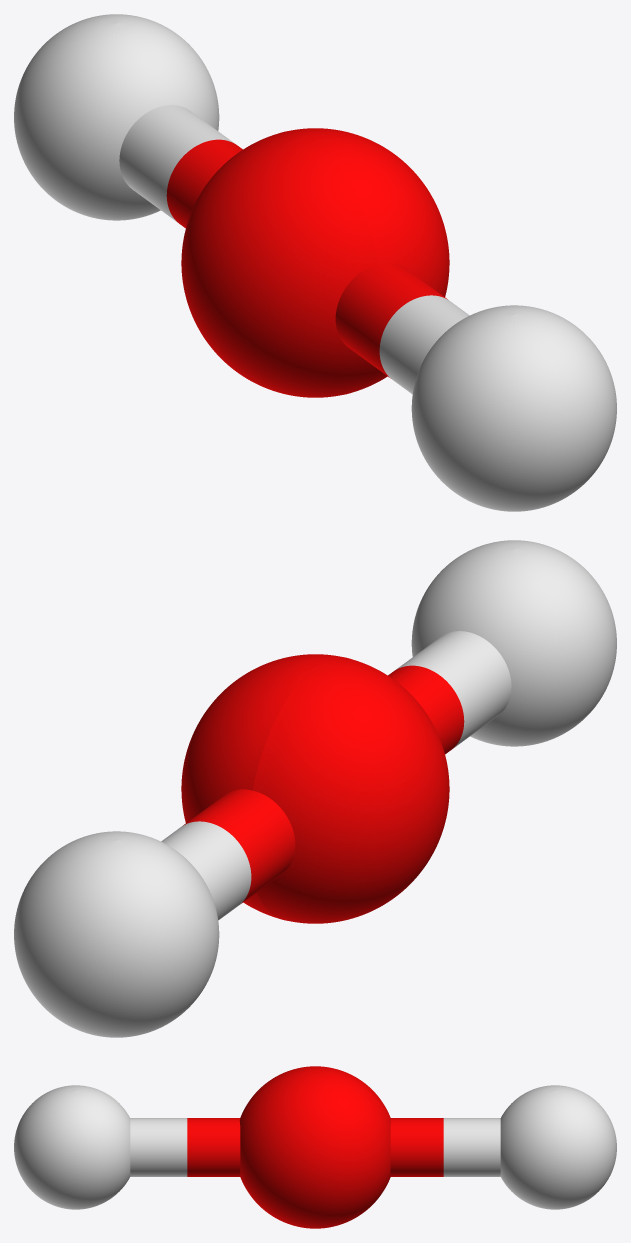
The model's file is linear_molecule.glb.
The picture shows the model from 3 angles, top to bottom: view 1: azimuth 30°, elevation 25°; view 2: azimuth 150°, elevation 25°; view 3: azimuth 270°, elevation 25°; orthographic projection. The views are drawn at different scales.
Visible parts, largest first — view 1: OuterAtoms_1, CentralAtom_0; view 2: OuterAtoms_1, CentralAtom_0; view 3: OuterAtoms_1, CentralAtom_0.
Boxes of the visible parts, <box> form: OuterAtoms_1: <box>14,14,616,511</box>; CentralAtom_0: <box>166,128,449,397</box>; OuterAtoms_1: <box>14,540,616,1037</box>; CentralAtom_0: <box>181,654,464,923</box>; OuterAtoms_1: <box>14,1085,616,1209</box>; CentralAtom_0: <box>187,1066,443,1228</box>.
Bounding box in the file's own units: 1.97 × 1.99 × 7.37.
